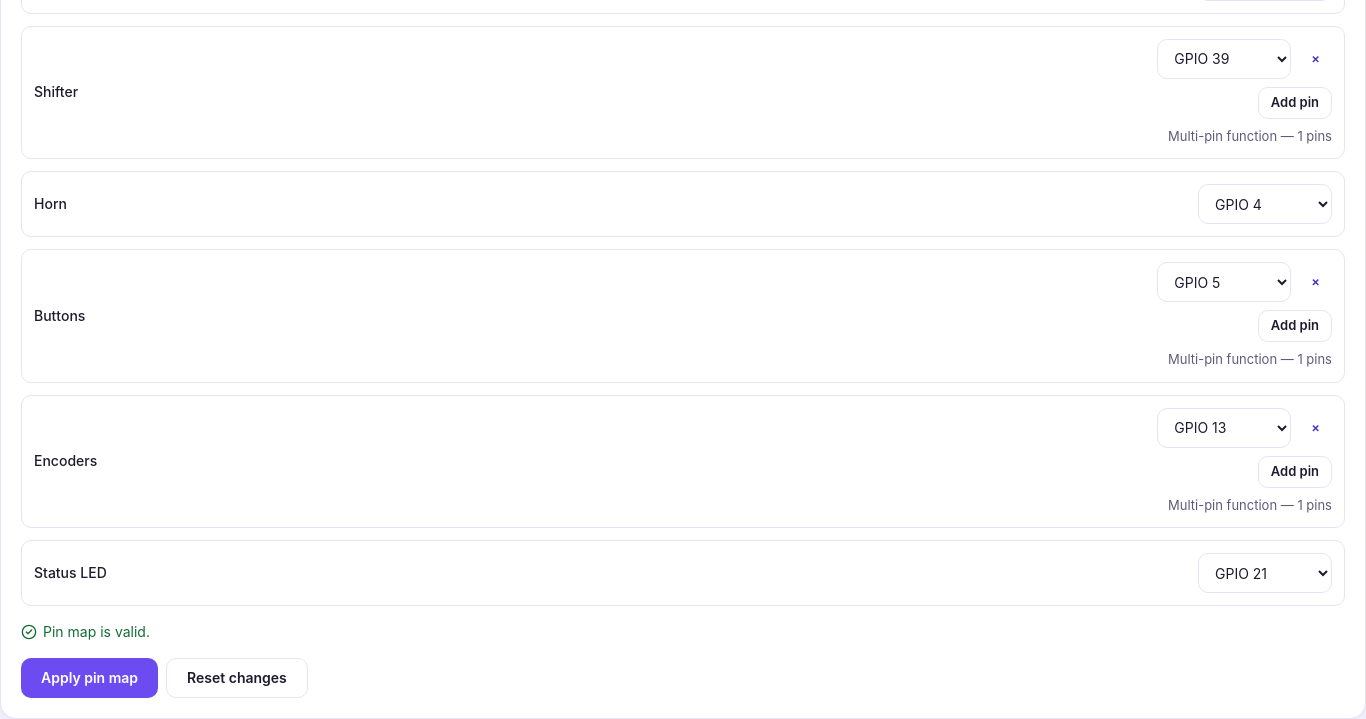
PinMapEditor › Apply sends the map and shows the confirm bar; Confirm confirms it
(page scrolled)
Expected: the text "Pin map is valid." is shown, [21,623,150,640]
What coordinates should you click on to do the following:
click the button "Apply pin map"
I would click on:
 (90, 678)
Its box is [21,658,158,698].
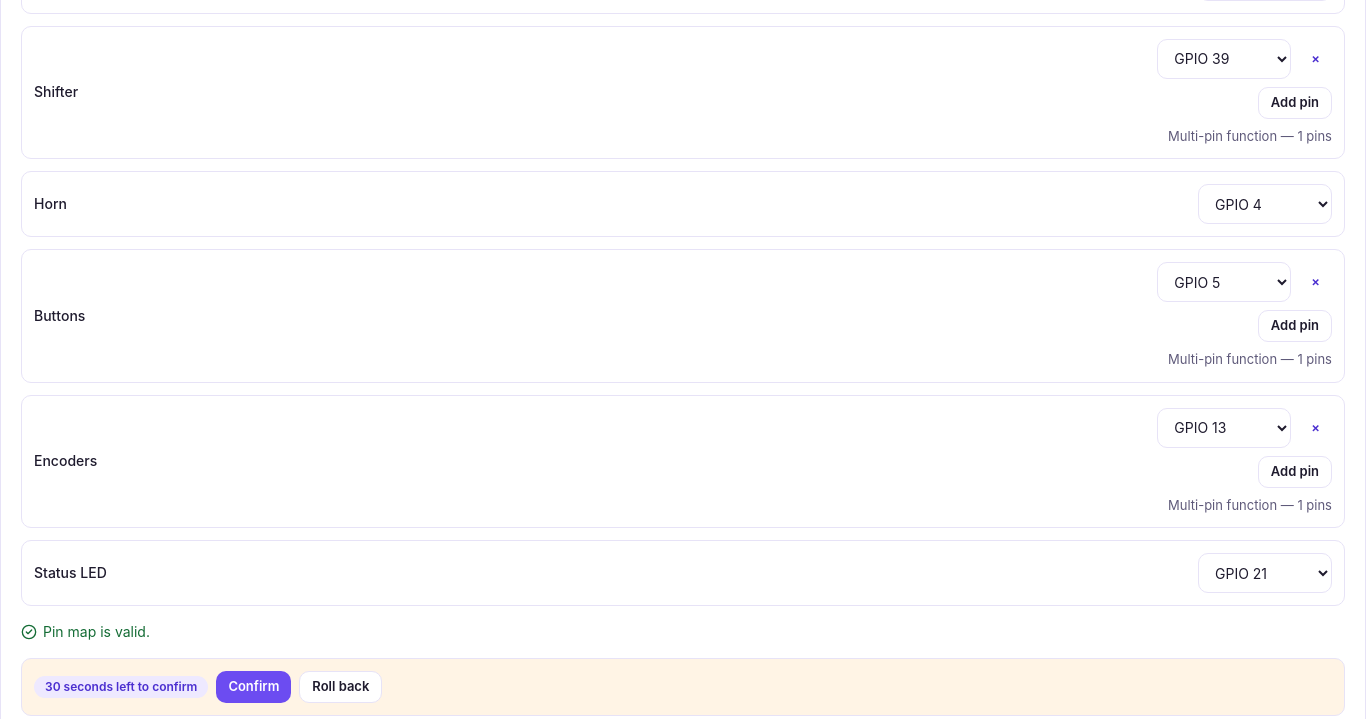
What coordinates should you click on to do the following:
click the button "Confirm"
I would click on:
 (254, 687)
Its box is [216,671,291,703].
(page scrolled)
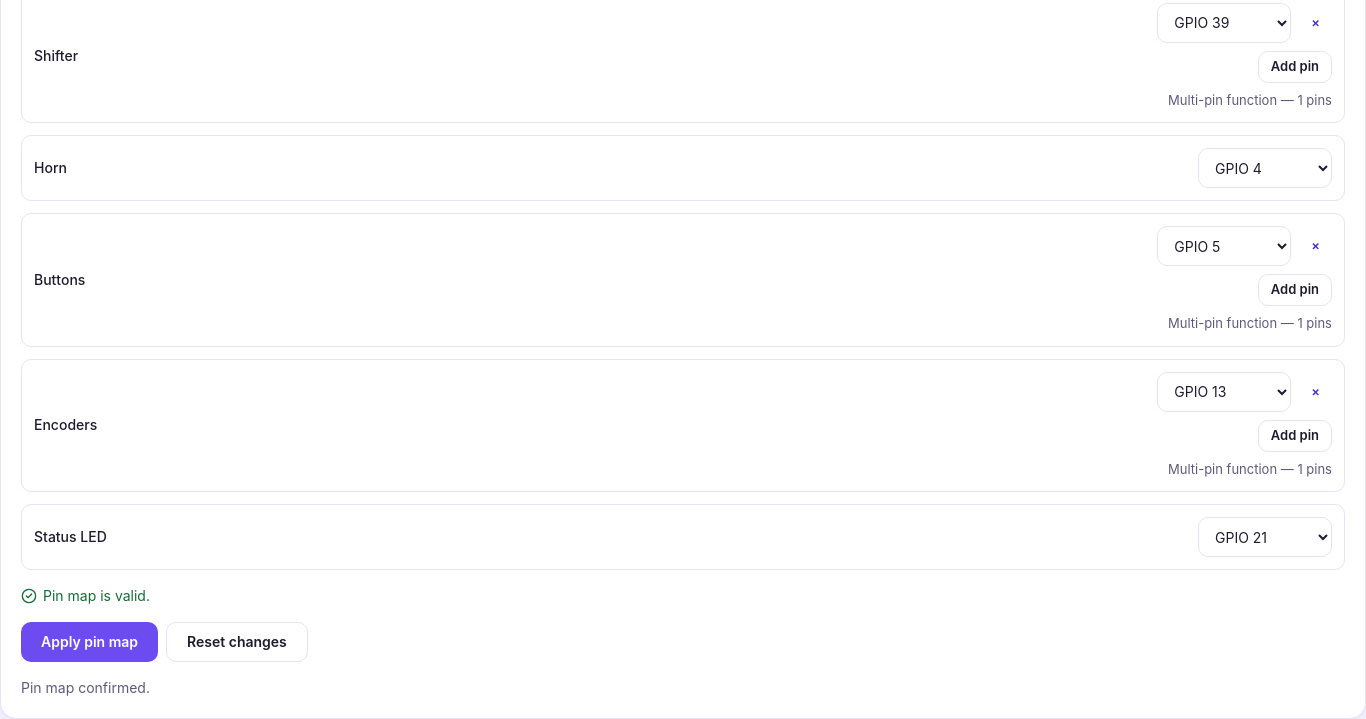
Now the text "Pin map confirmed." is shown, box [21,679,150,696]
